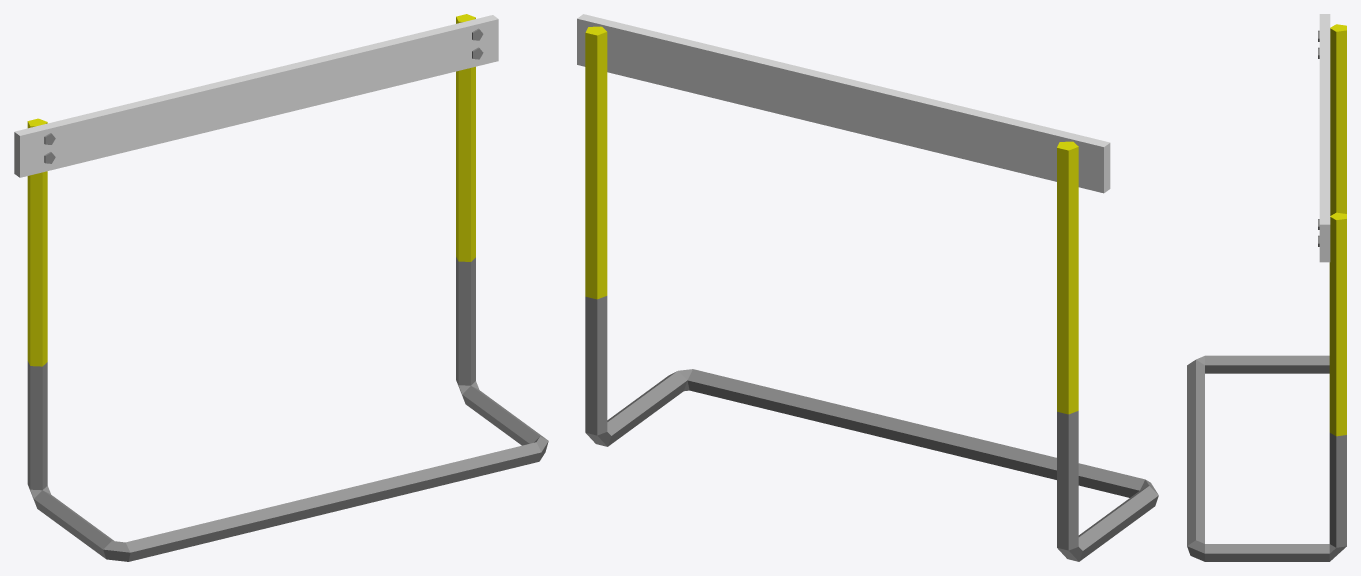
The model's file is Hurdle.fbx.
The picture shows the model from 3 angles, left to right: view 1: azimuth 30°, elevation 25°; view 2: azimuth 150°, elevation 25°; view 3: azimuth 270°, elevation 25°; orthographic projection. The views are drawn at different scales.
Visible parts, largest first — view 1: pCylinder13; view 2: pCylinder13; view 3: pCylinder13.
Boxes of the visible parts, left/top/right/bottom form: pCylinder13: left=14, top=14, right=548, bottom=561; pCylinder13: left=577, top=14, right=1158, bottom=561; pCylinder13: left=1187, top=14, right=1346, bottom=561.
Size of the model in its own units: 26.45 by 20.19 by 8.49.
